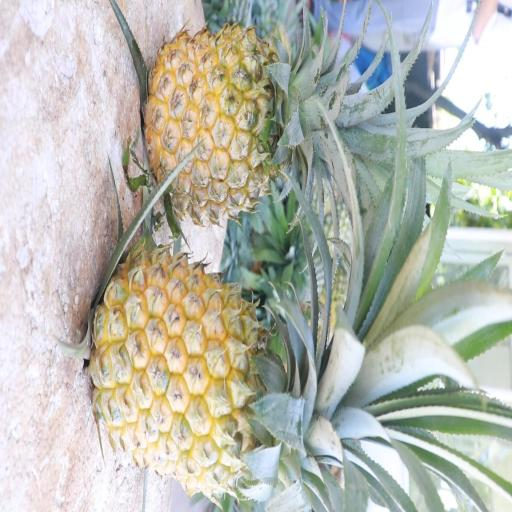Pineapple - v8 v1: (84, 239, 386, 493), (139, 19, 358, 233), (216, 154, 226, 158), (223, 112, 232, 112)
